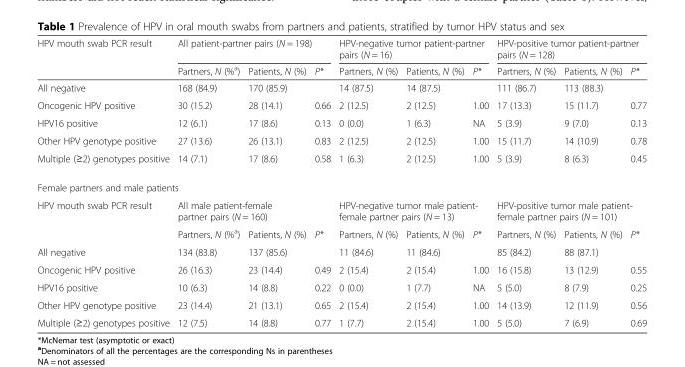table: (36, 37, 646, 328)
table column: (36, 37, 172, 328), (172, 37, 243, 328), (334, 37, 401, 328), (492, 37, 559, 328), (243, 37, 309, 328), (401, 37, 467, 328), (559, 37, 625, 328), (309, 37, 334, 328), (467, 37, 492, 328), (625, 37, 646, 328)
table column header: (36, 37, 646, 78)
table projected row header: (36, 172, 646, 196)
table row: (36, 196, 646, 224), (36, 37, 646, 61), (36, 172, 646, 196), (36, 149, 646, 172), (36, 78, 646, 96), (36, 113, 646, 131), (36, 131, 646, 149), (36, 224, 646, 242), (36, 242, 646, 260), (36, 260, 646, 278), (36, 295, 646, 313), (36, 61, 646, 78), (36, 96, 646, 113), (36, 278, 646, 295), (36, 313, 646, 328)
table spanning cell: (36, 196, 172, 242), (36, 37, 172, 78), (172, 196, 334, 224), (334, 196, 492, 224), (492, 196, 646, 224), (172, 37, 334, 61), (334, 37, 492, 61), (492, 37, 646, 61)
